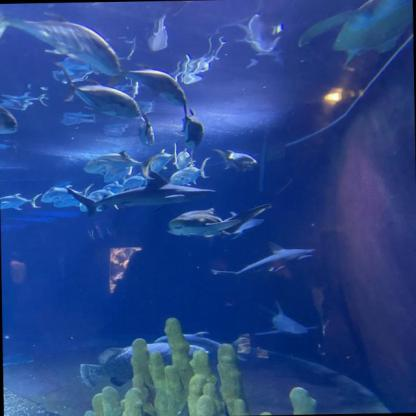fish: (0, 2, 123, 79), (79, 342, 210, 386), (59, 64, 140, 119), (153, 330, 245, 364), (132, 68, 187, 111), (87, 150, 162, 172), (170, 158, 210, 186), (53, 184, 93, 209), (216, 148, 256, 171), (180, 110, 202, 151), (149, 148, 178, 174), (0, 194, 41, 210), (138, 108, 154, 146), (39, 187, 74, 204), (0, 102, 18, 135), (173, 148, 196, 170), (123, 174, 149, 188), (102, 170, 132, 182), (102, 181, 130, 193), (88, 190, 114, 201), (79, 200, 100, 211)
shark: (66, 170, 214, 217), (212, 241, 316, 278), (168, 202, 272, 238), (256, 300, 318, 336)
